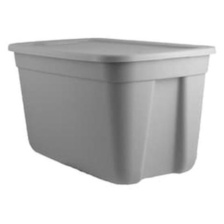plastic_box: (2, 27, 224, 191)
